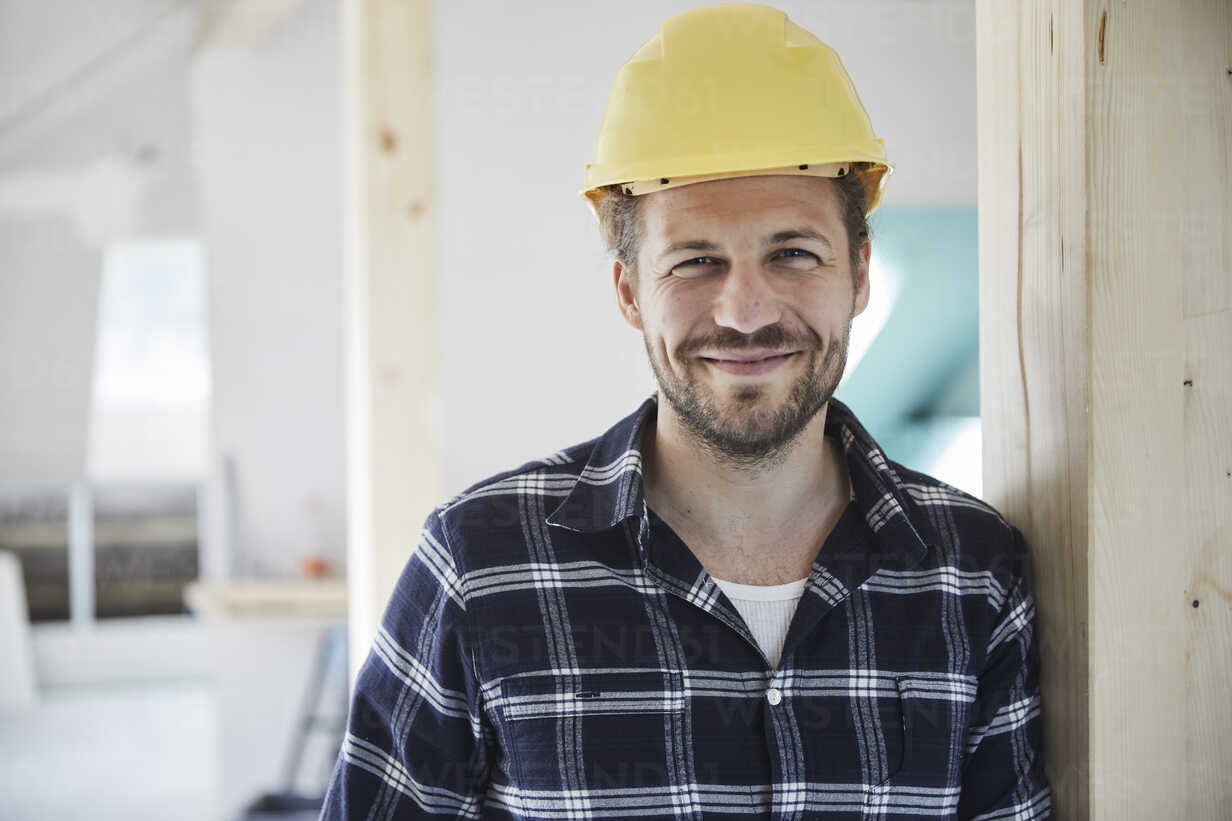With Helmet: (560, 1, 905, 451)
